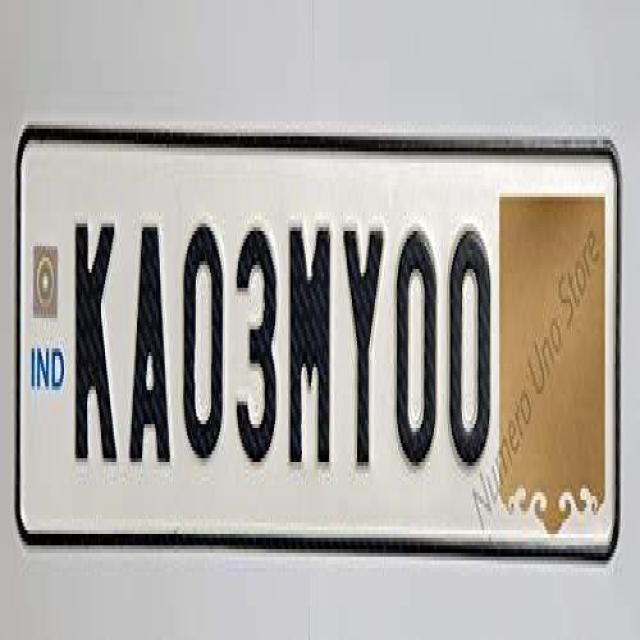0: (181, 216, 229, 474), (392, 224, 440, 480), (448, 225, 496, 478)
3: (233, 222, 281, 476)
a: (127, 215, 175, 482)
k: (68, 208, 124, 473)
m: (283, 223, 338, 481)
y: (340, 215, 383, 478)
